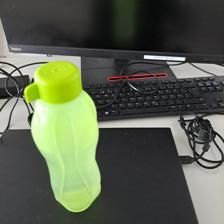bottle: (22, 59, 101, 213)
